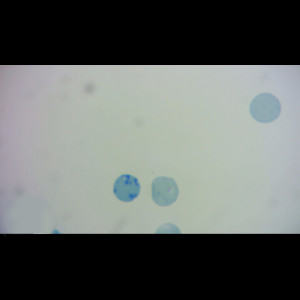aggregate reticulocyte: (112, 173, 142, 203)
erythrocyte: (150, 175, 180, 208)
punctate reticulocyte: (248, 91, 283, 124)
